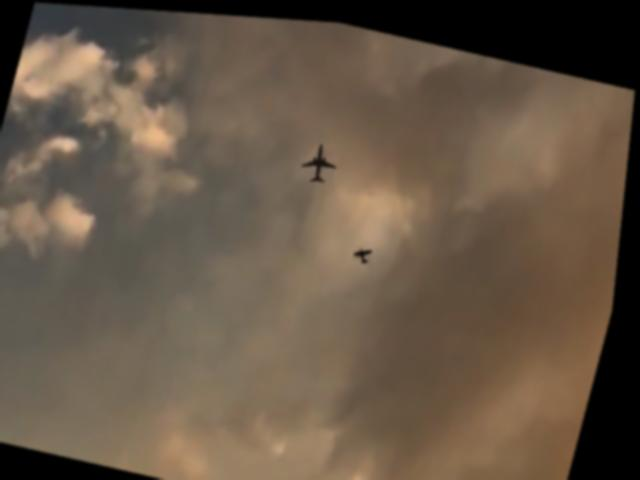plane: (300, 134, 345, 183), (357, 240, 377, 260)
